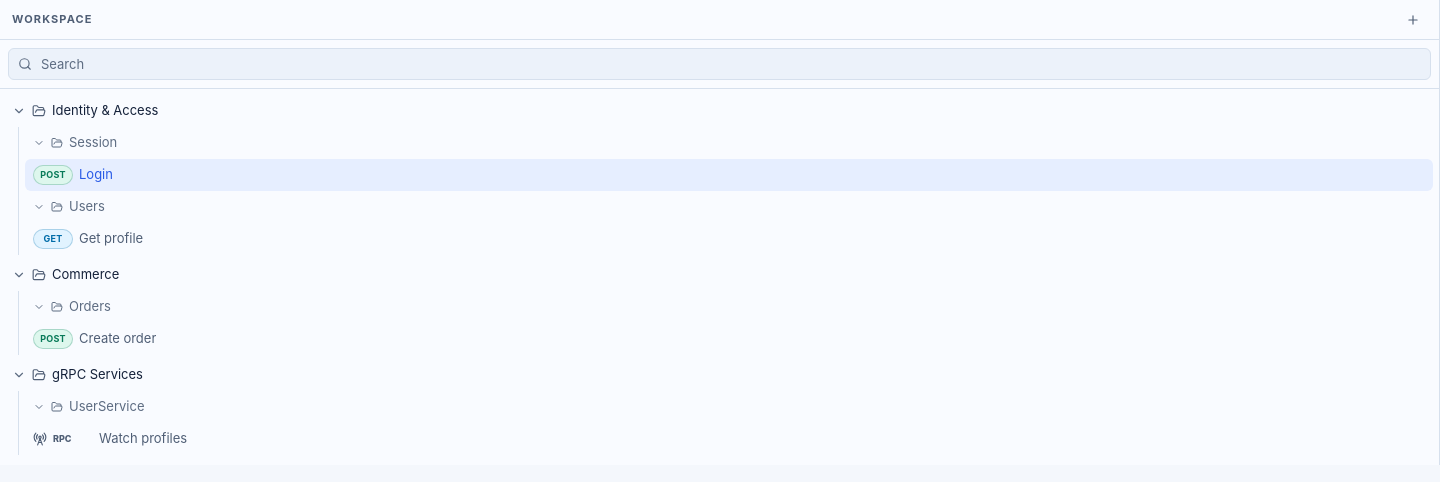
Test case: Explorer states › collapses and restores a folder without changing its requests
Click the button "Users" at (87, 206), box [25,191,1405,223]
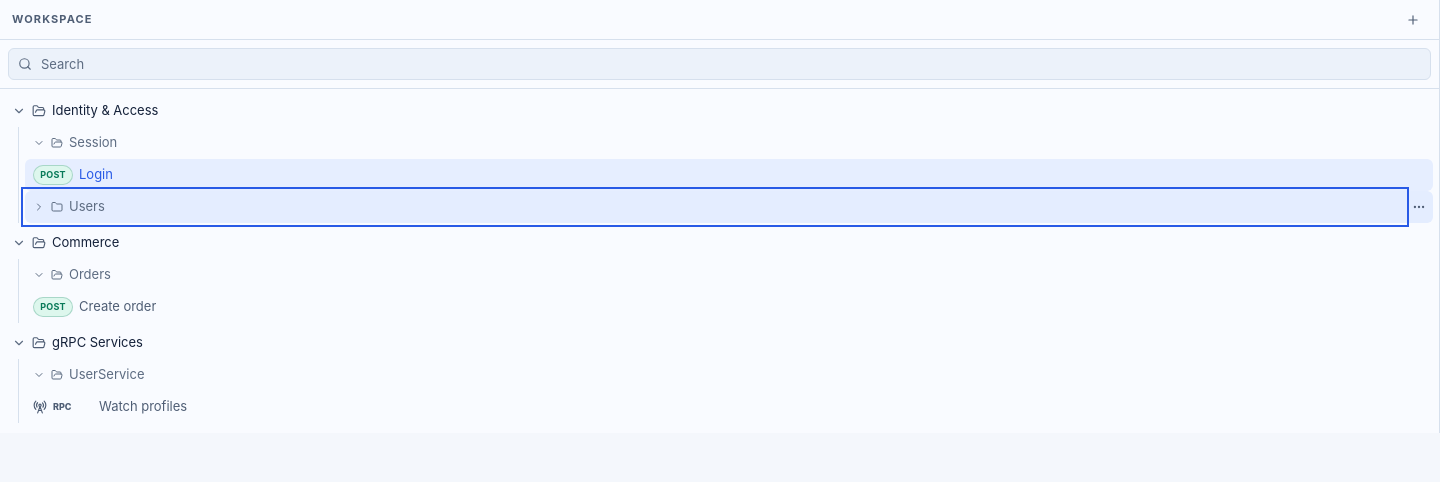
Expected: the button "Get profile" is gone
Click the button "Users" at (87, 206), box [25,191,1405,223]
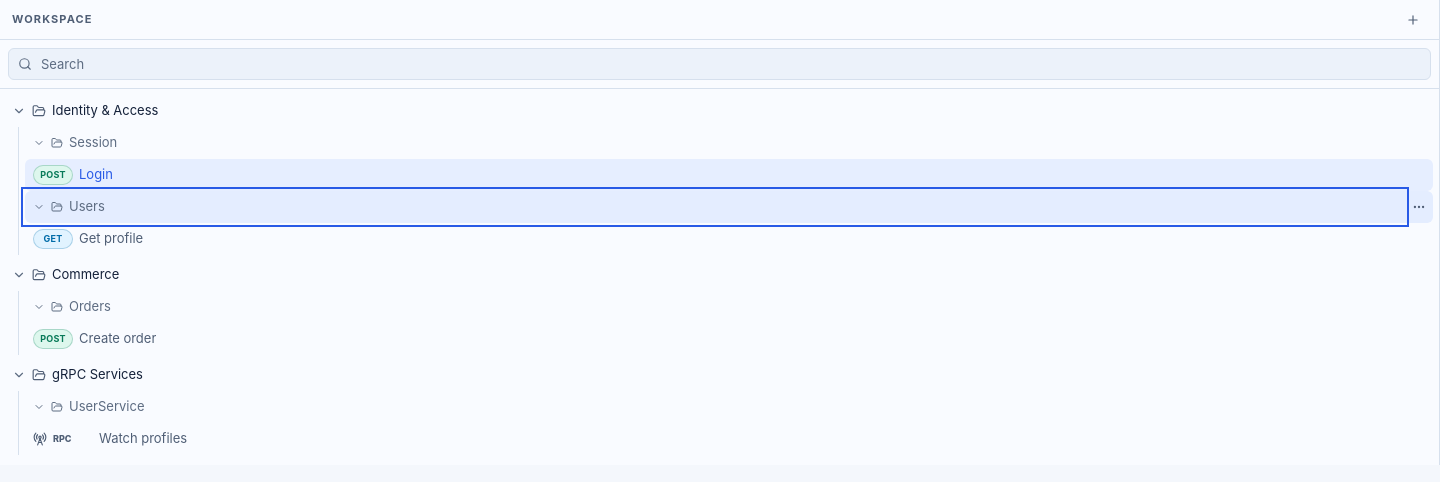
Expected: the button "GET Get profile" is shown, [25,223,1433,255]
